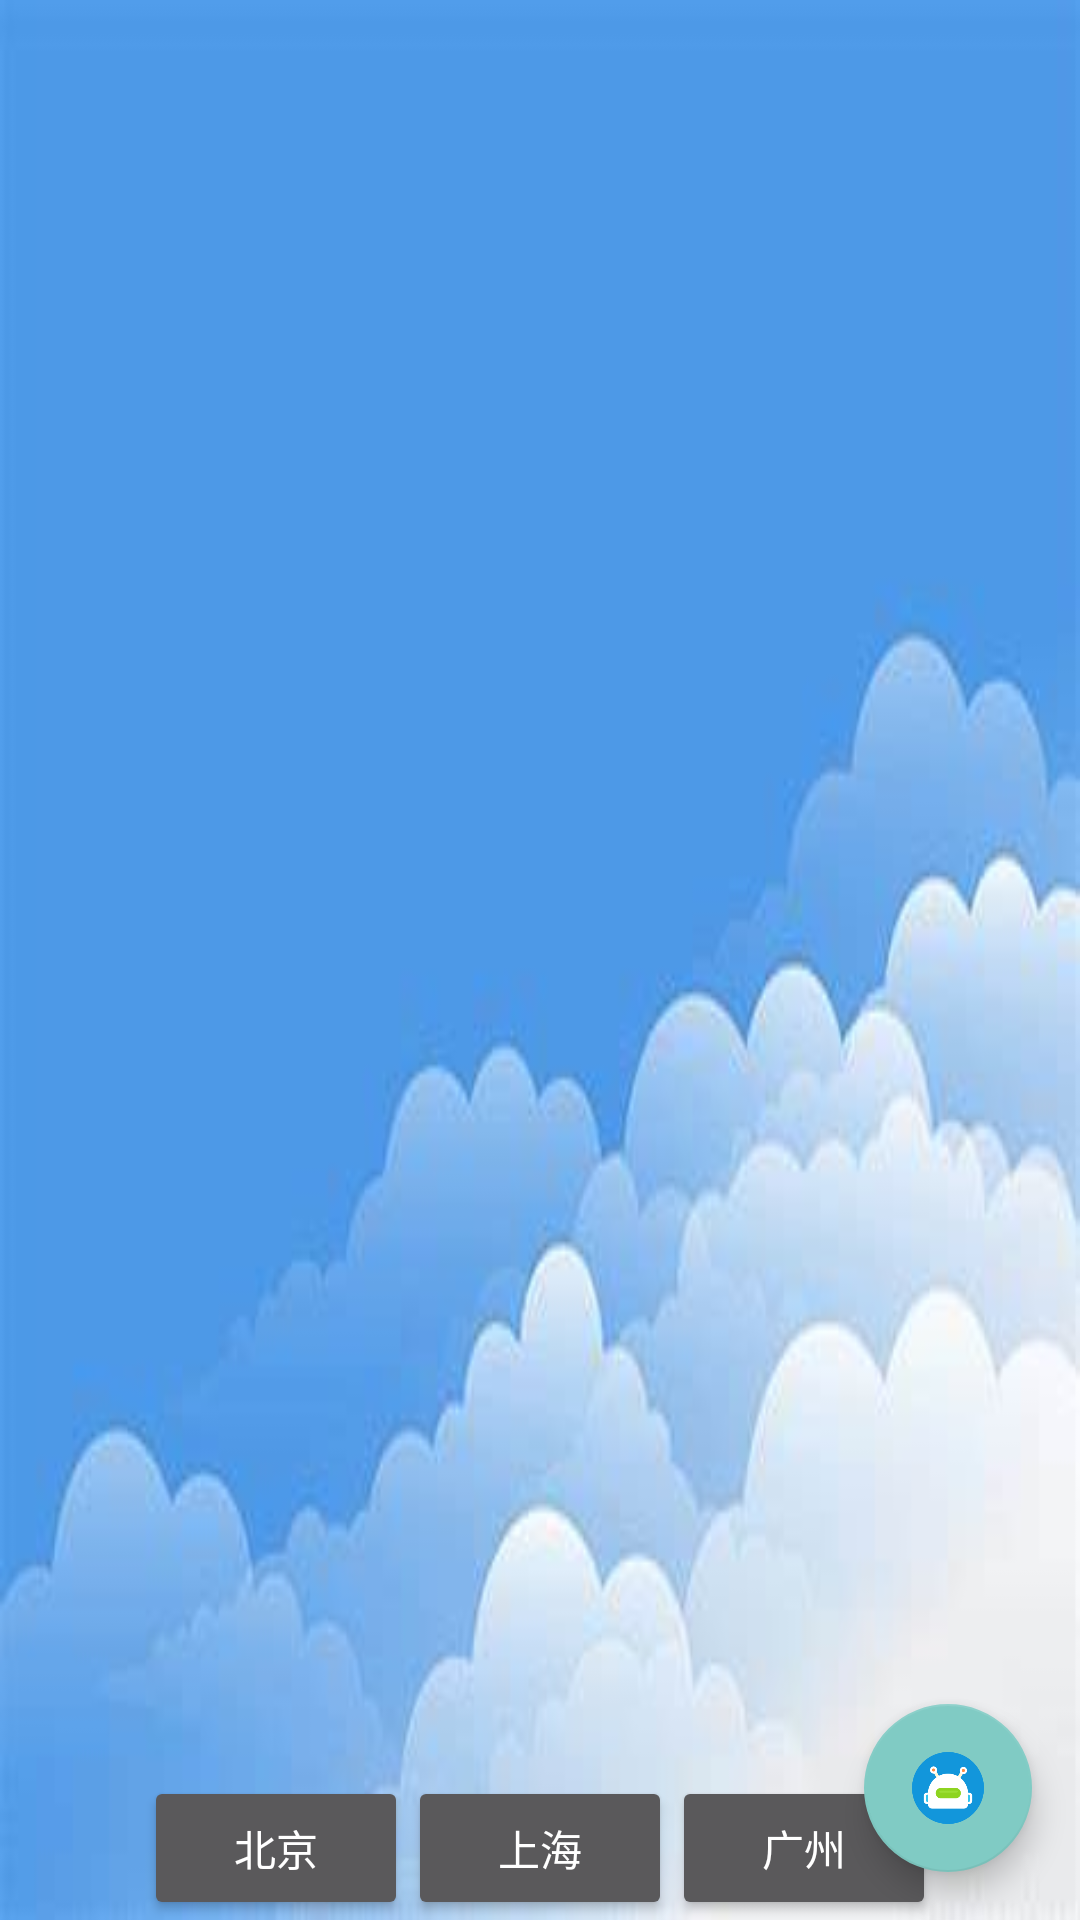

Screen size 1080 x 1920. Icon name, then its center in pixels as point (x, y):
robot: point (948, 1788)
